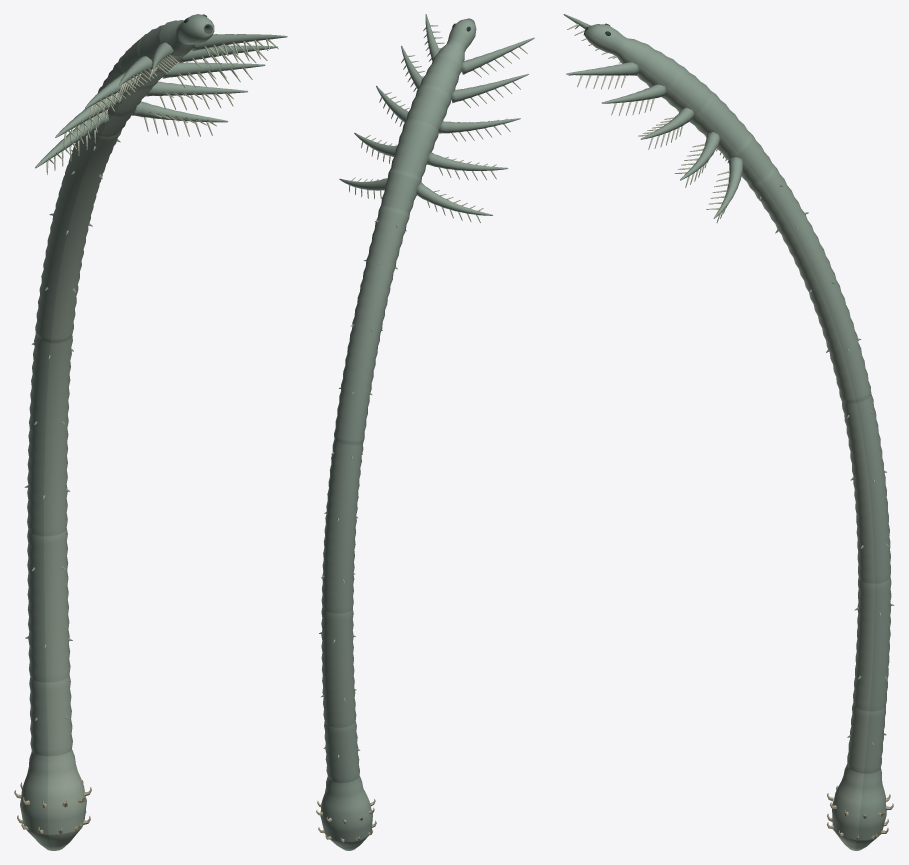
3 renders of one model, left to right at view 1: azimuth 30°, elevation 25°; view 2: azimuth 150°, elevation 25°; view 3: azimuth 270°, elevation 25°, orthographic. The views are drawn at different scales.
Visible parts, largest first — view 1: continuous-annulated-body-head-and-posterior, lobopod-pair-4-right, lobopod-pair-5-right, lobopod-pair-3-right, lobopod-pair-1-right, lobopod-pair-5-left, lobopod-pair-2-right, lobopod-pair-4-left, lobopod-pair-3-left, lobopod-pair-2-left, lobopod-pair-1-left; view 2: continuous-annulated-body-head-and-posterior, lobopod-pair-5-left, lobopod-pair-4-left, lobopod-pair-3-left, lobopod-pair-1-left, lobopod-pair-2-left, lobopod-pair-5-right, lobopod-pair-4-right, lobopod-pair-3-right; view 3: continuous-annulated-body-head-and-posterior, lobopod-pair-5-right, lobopod-pair-4-right, lobopod-pair-3-right, lobopod-pair-1-right, lobopod-pair-2-right.
Part boxes in pixels (x1,y1,x2,y2): continuous-annulated-body-head-and-posterior: (20, 14, 214, 850); lobopod-pair-4-right: (146, 81, 247, 110); lobopod-pair-5-right: (131, 101, 228, 136); lobopod-pair-3-right: (162, 62, 265, 87); lobopod-pair-1-right: (192, 34, 287, 56); lobopod-pair-5-left: (35, 111, 109, 174); lobopod-pair-2-right: (179, 45, 277, 70); lobopod-pair-4-left: (55, 93, 122, 146); lobopod-pair-3-left: (85, 71, 137, 118); lobopod-pair-2-left: (118, 56, 156, 95); lobopod-pair-1-left: (148, 42, 178, 79); continuous-annulated-body-head-and-posterior: (320, 18, 476, 850); lobopod-pair-5-left: (416, 182, 492, 222); lobopod-pair-4-left: (427, 152, 508, 180); lobopod-pair-3-left: (438, 118, 520, 141); lobopod-pair-1-left: (461, 37, 534, 77); lobopod-pair-2-left: (451, 74, 528, 107); lobopod-pair-5-right: (339, 177, 387, 199); lobopod-pair-4-right: (354, 132, 396, 163); lobopod-pair-3-right: (376, 85, 409, 126); continuous-annulated-body-head-and-posterior: (584, 24, 891, 850); lobopod-pair-5-right: (706, 157, 743, 222); lobopod-pair-4-right: (674, 132, 720, 187); lobopod-pair-3-right: (638, 107, 695, 149); lobopod-pair-1-right: (566, 62, 639, 89); lobopod-pair-2-right: (601, 84, 667, 115).
Size of the model in its own units: 0.00981 by 0.0453 by 0.0165.
